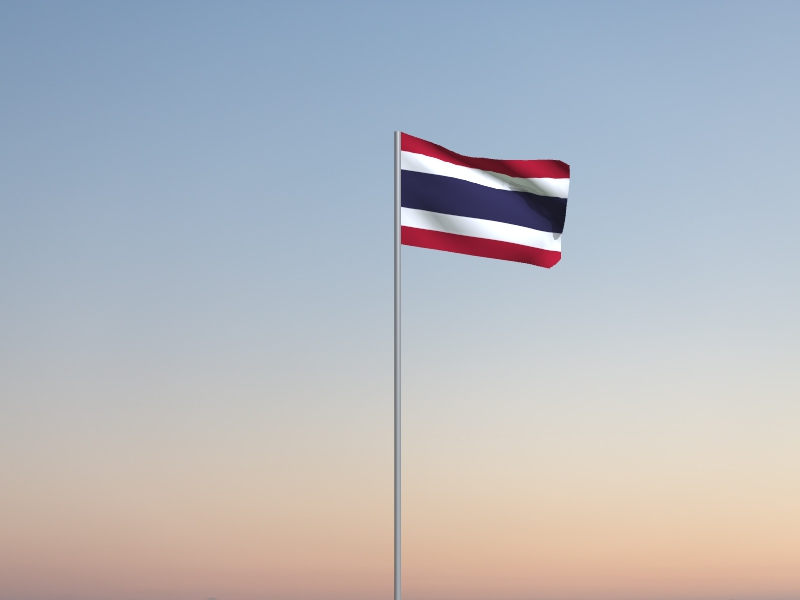th: (402, 132, 571, 270)
